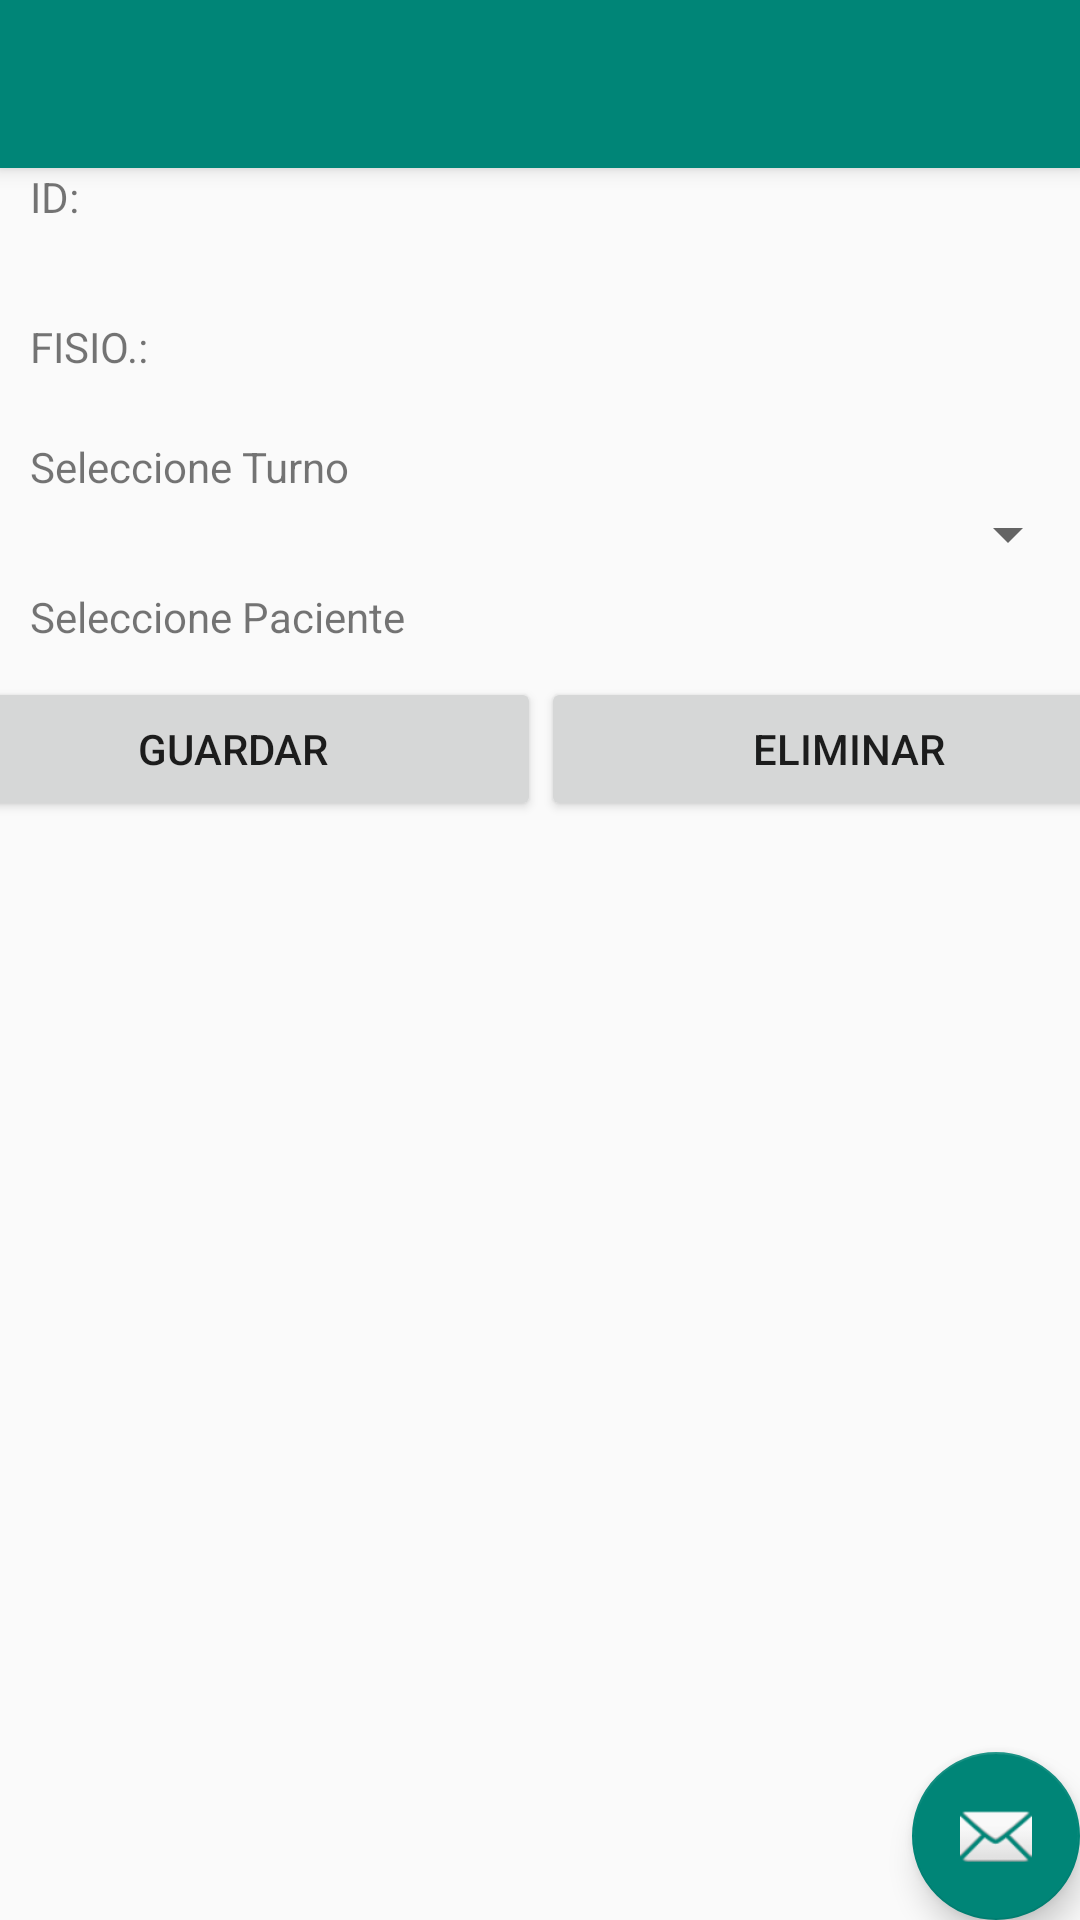

Named icons in this screenshot (1080 × 1920) and their bounding boxes, (x1, y1, x2, y2):
email: (912, 1752, 1080, 1920)
